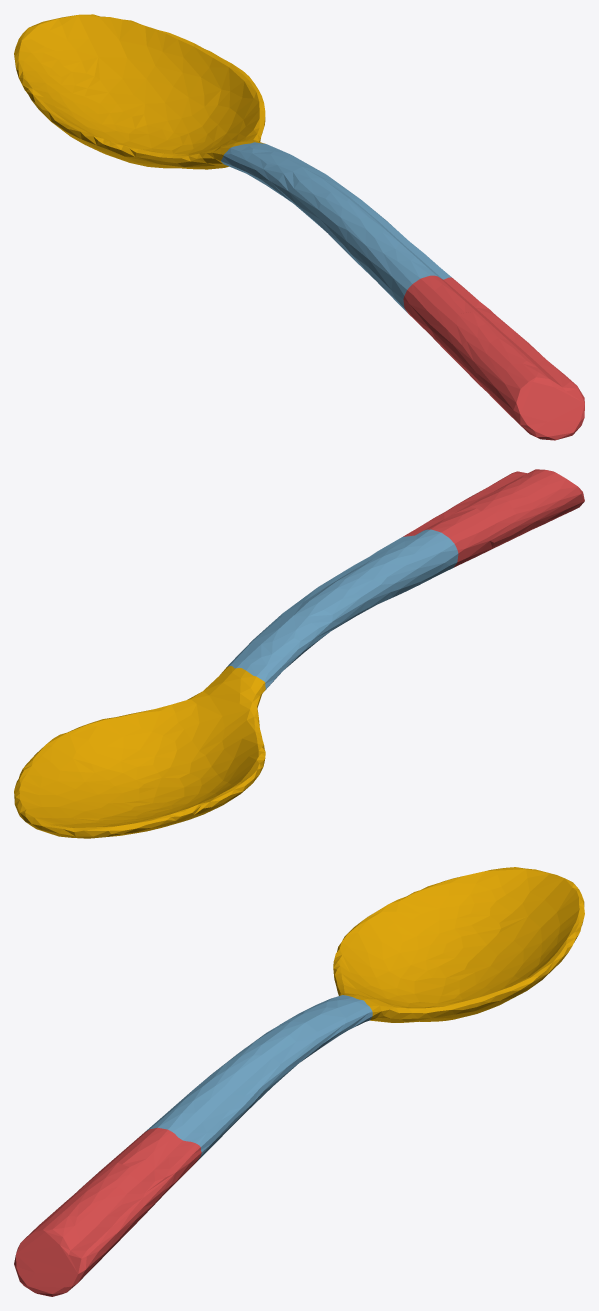
The model's file is mode_2_3pcs.glb.
The picture shows the model from 3 angles, top to bottom: view 1: azimuth 30°, elevation 25°; view 2: azimuth 150°, elevation 25°; view 3: azimuth 330°, elevation 25°; orthographic projection.
Visible parts, largest first — view 1: piece_0.obj, piece_1.obj, piece_2.obj; view 2: piece_0.obj, piece_2.obj, piece_1.obj; view 3: piece_0.obj, piece_1.obj, piece_2.obj.
Boxes of the visible parts, box(x1,y1,x2,y2) form: piece_0.obj: box(14, 14, 265, 169); piece_1.obj: box(403, 275, 584, 440); piece_2.obj: box(221, 142, 451, 312); piece_0.obj: box(14, 666, 265, 838); piece_2.obj: box(227, 529, 458, 690); piece_1.obj: box(403, 469, 584, 567); piece_0.obj: box(333, 867, 584, 1022); piece_1.obj: box(14, 1127, 201, 1296); piece_2.obj: box(145, 995, 372, 1161).
Size of the model in its own units: 0.217 by 0.0921 by 1.
